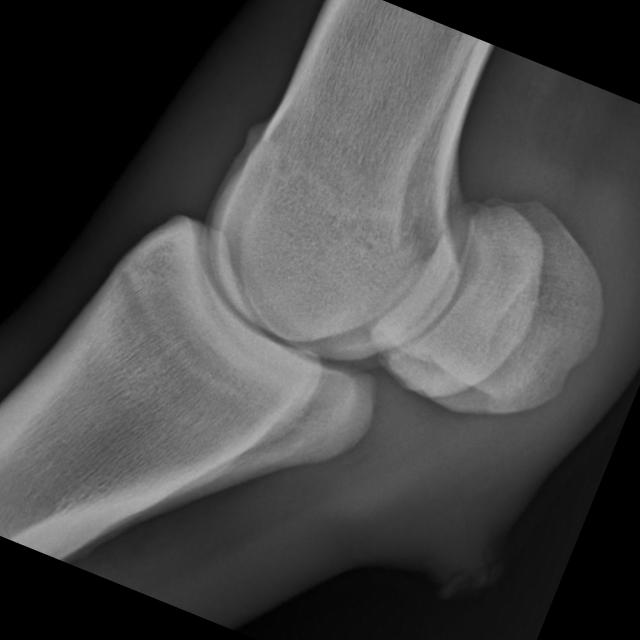bone remodeling: (202, 75, 295, 178)
